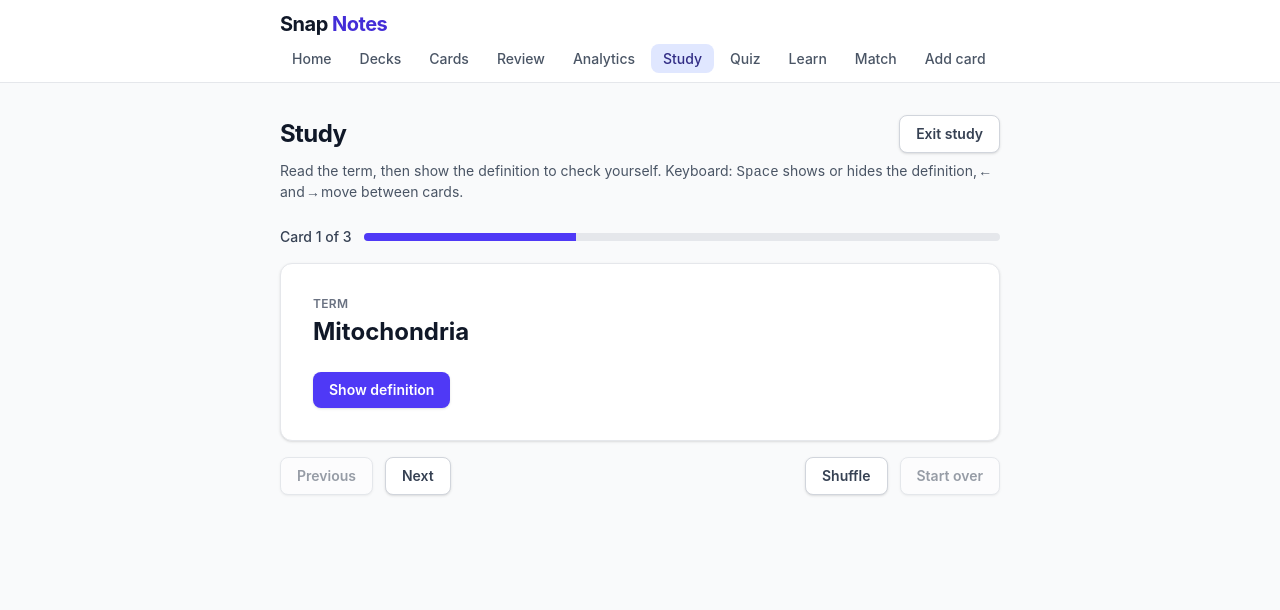
Test: StudyPage › moves between cards, hiding the definition on each new card
Click the button "Show definition". click: (382, 390)
box: [313,372,450,408]
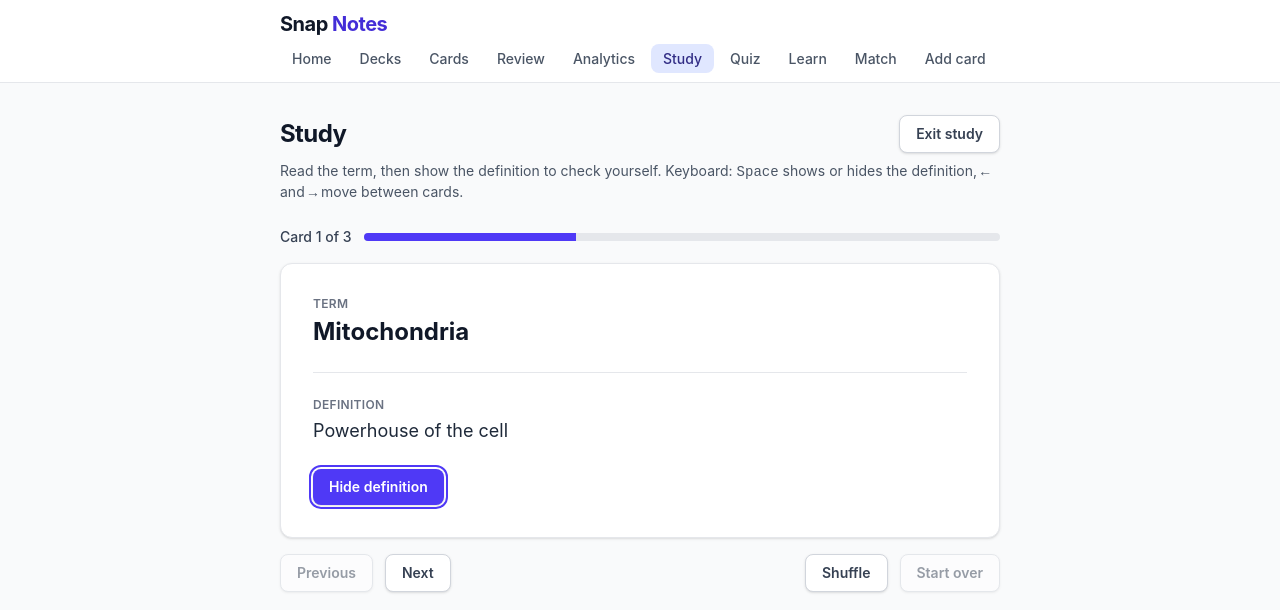
Click the button "Next". click: (418, 573)
box: [385,554,451,592]
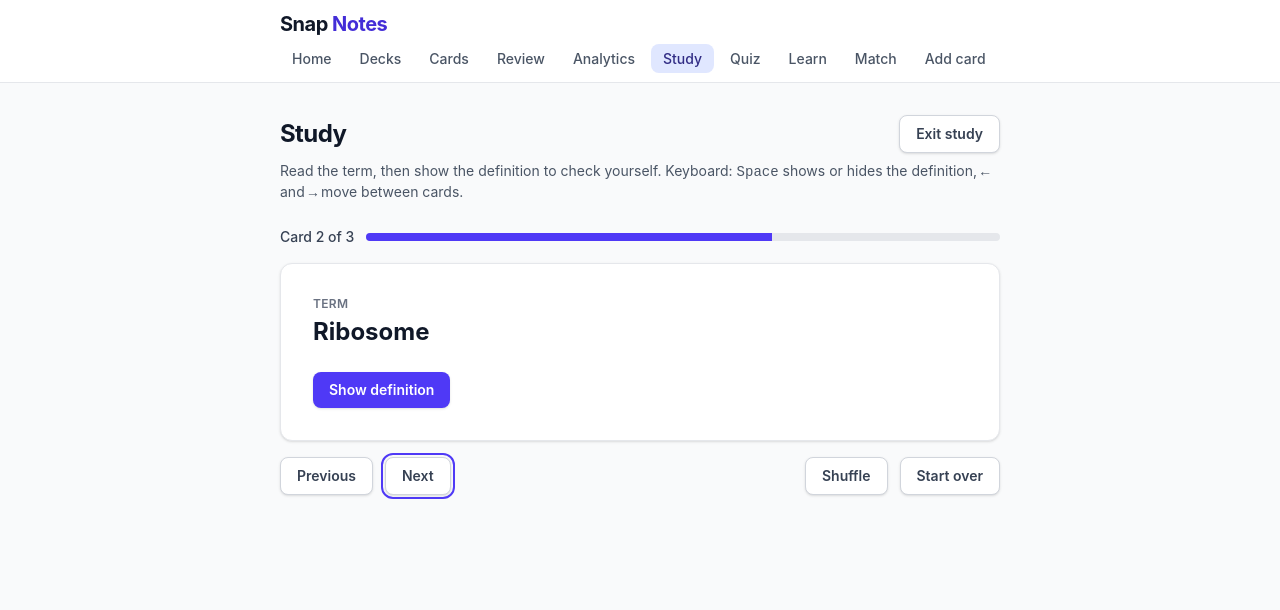
Expected: the heading "Ribosome" is shown, [313,317,430,346]
Expected: the text "Card 2 of 3" is shown, [280,227,354,247]
Expected: the element with id "study-definition" is gone
Click the button "Previous". click: (326, 476)
box: [280,457,373,495]
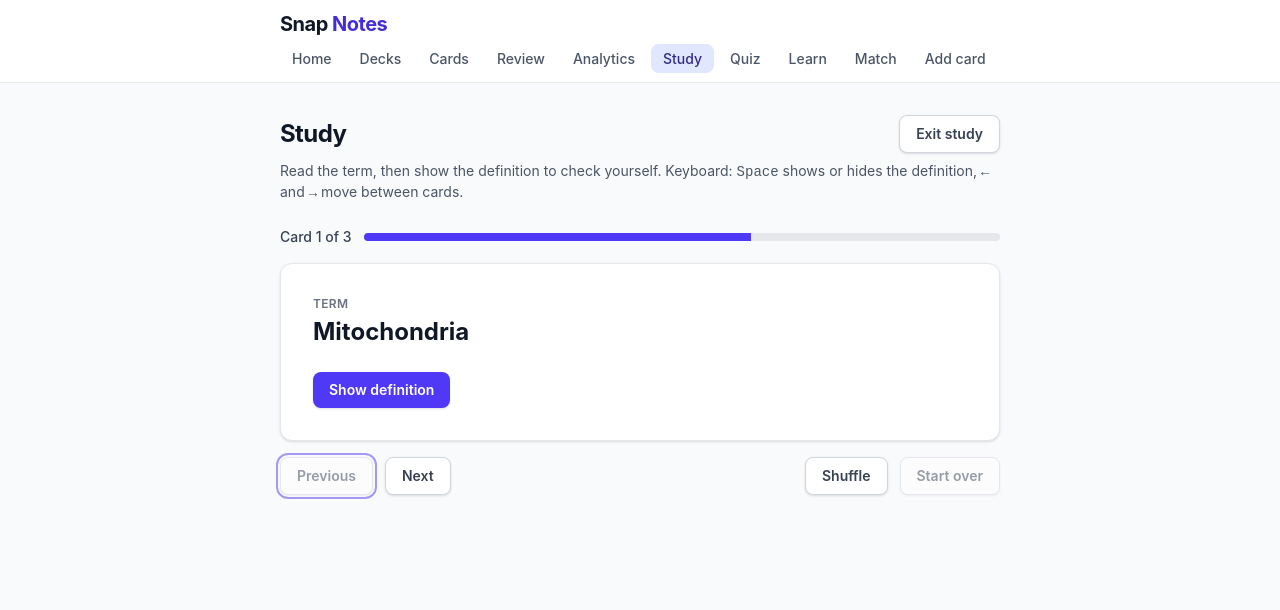
Expected: the heading "Mitochondria" is shown, [313,317,469,346]
Expected: the text "Card 1 of 3" is shown, [280,227,352,247]
